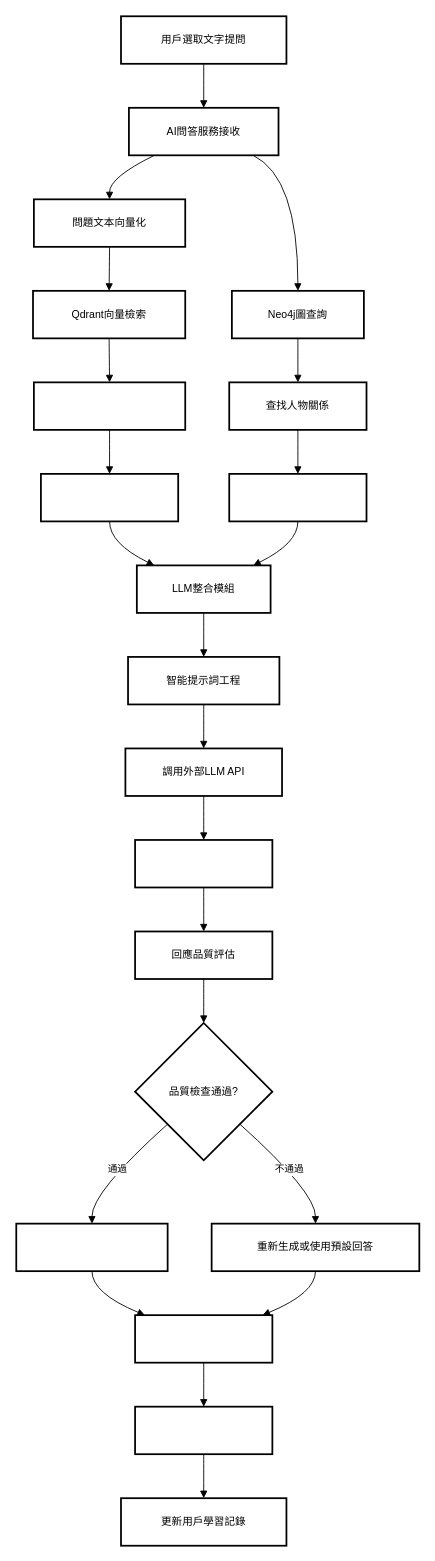
Image size: 435x1561. Some labels were removed from this diagram. The shapes that lost their labels are listed below. From the top down, each one's centre as x and y in pixels, then its label:
point 109,405: 語義相似性搜尋
point 109,497: 檢索相關文檔
point 297,497: 獲取情節脈絡
point 203,863: 生成專業解答
point 91,1247: 返回答案給用戶
point 203,1338: 對話管理系統
point 203,1430: 保存對話歷史
